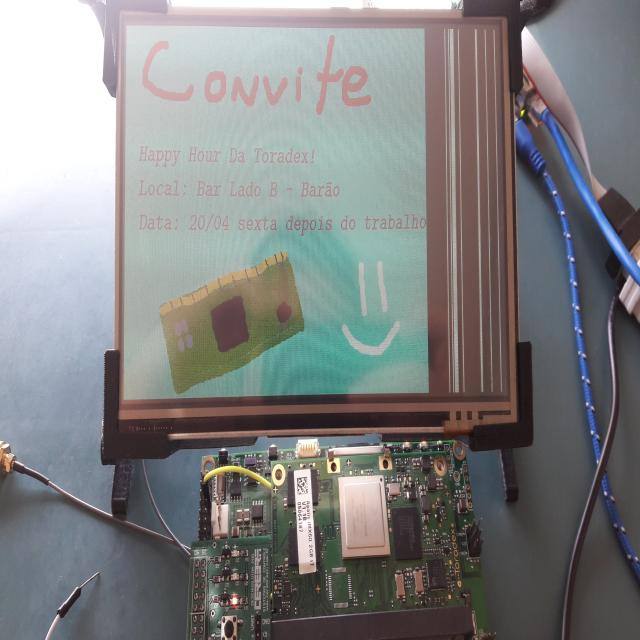som: (266, 451, 472, 623)
